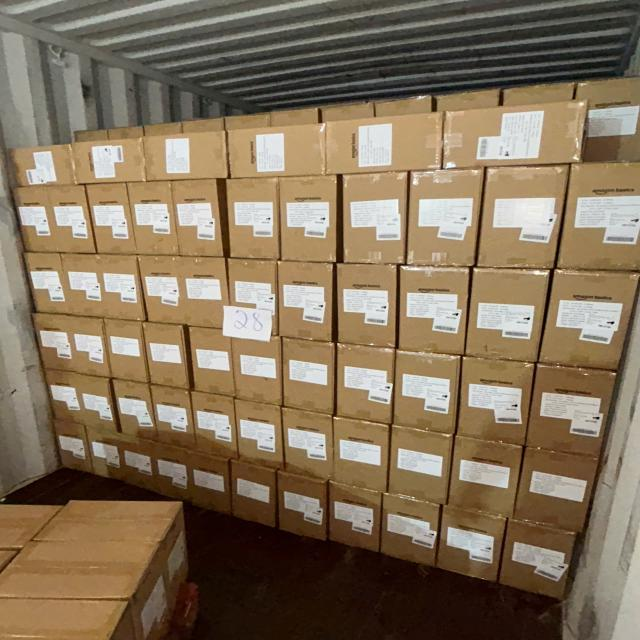Carton: (543, 267, 637, 369), (483, 165, 568, 272), (444, 105, 583, 168), (563, 160, 640, 272), (530, 365, 617, 459), (405, 168, 480, 268), (468, 264, 544, 361), (325, 118, 441, 176), (518, 448, 595, 534), (461, 355, 533, 445), (400, 265, 469, 355), (342, 172, 408, 265), (504, 519, 575, 602), (454, 433, 524, 516), (396, 348, 460, 434), (282, 175, 341, 263), (229, 125, 326, 178), (337, 264, 398, 348), (440, 508, 504, 586), (392, 423, 452, 503), (337, 343, 396, 424), (168, 180, 228, 258), (174, 254, 234, 331), (278, 262, 334, 344), (379, 490, 436, 568), (333, 418, 389, 497), (280, 335, 334, 415), (226, 180, 278, 262), (146, 131, 231, 180), (226, 260, 276, 342), (45, 182, 101, 255), (135, 253, 190, 327), (328, 482, 381, 557), (282, 405, 334, 481), (93, 253, 148, 322), (278, 472, 328, 545), (235, 397, 286, 468), (128, 183, 175, 259), (57, 253, 110, 320), (188, 326, 236, 398), (234, 336, 285, 403), (15, 187, 64, 256), (191, 391, 238, 462), (88, 183, 134, 255), (233, 459, 279, 531), (63, 312, 113, 378), (73, 370, 122, 436), (75, 138, 147, 182), (142, 321, 189, 388), (152, 386, 197, 453), (32, 313, 77, 376), (26, 252, 70, 316), (107, 318, 148, 386), (113, 381, 159, 440), (11, 144, 75, 186), (43, 367, 87, 428), (190, 456, 232, 518), (54, 423, 94, 473)
